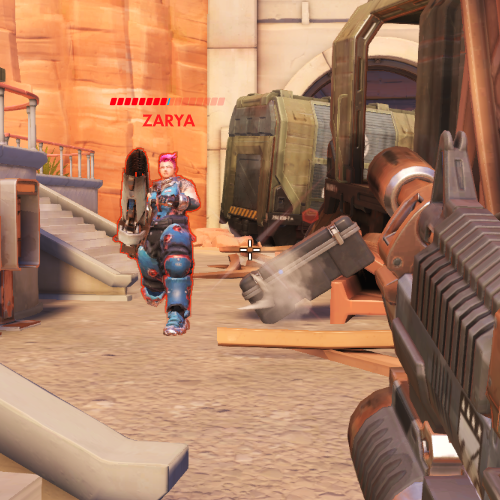hpbar: (109, 97, 226, 106)
